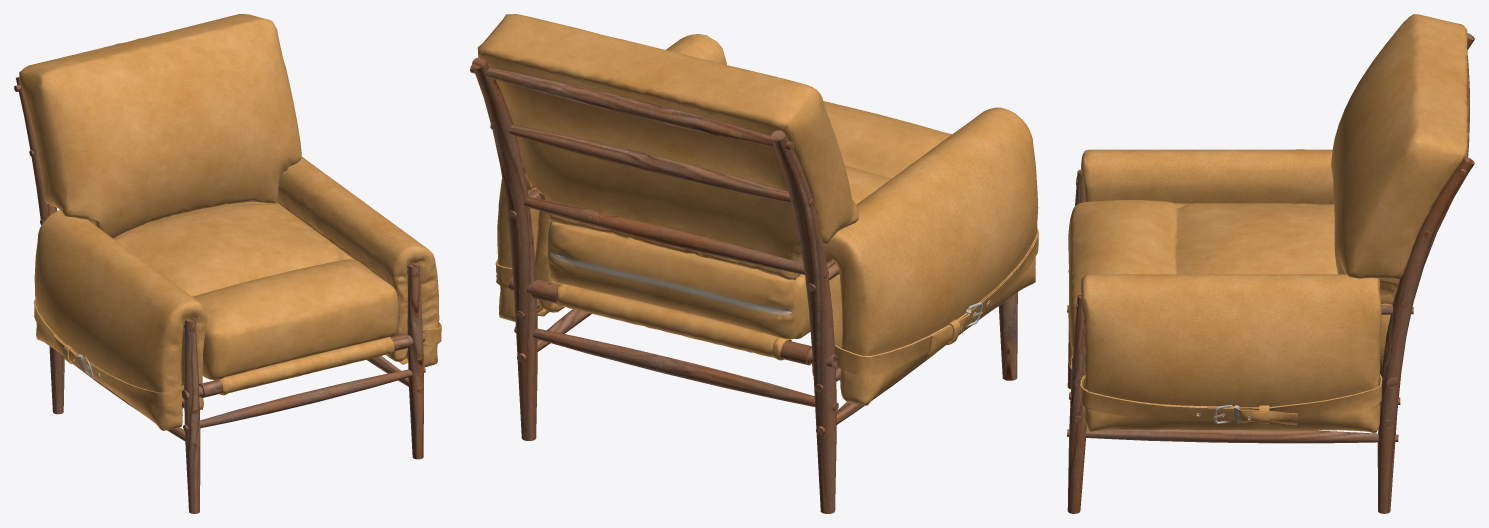
Rendered from leather-chair.glb.
3 renders of one model, left to right at view 1: azimuth 30°, elevation 25°; view 2: azimuth 150°, elevation 25°; view 3: azimuth 270°, elevation 25°, orthographic. The views are drawn at different scales.
Bounding box in the file's own units: 0.9242 × 0.919 × 0.9061.
1 material, 1 textured.
